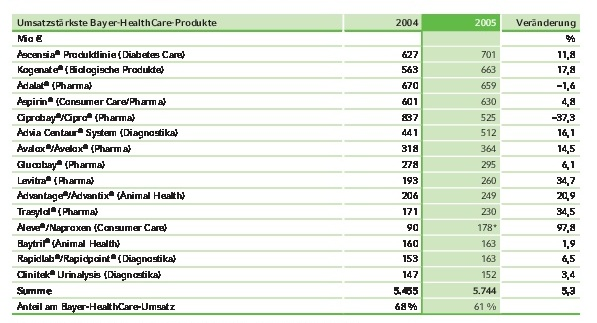table: (0, 0, 597, 323)
